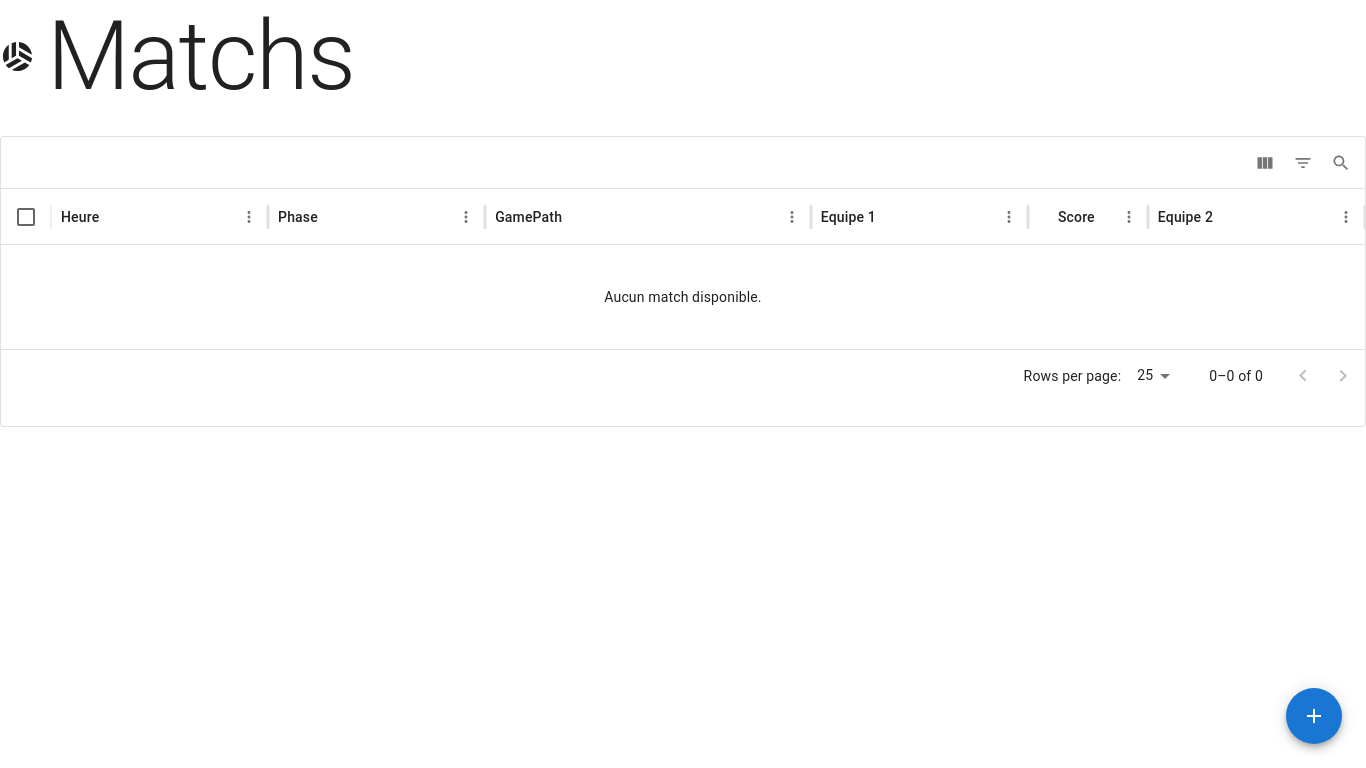
AdminGamesView › should choose and open the single game creation form
This screenshot has width=1366, height=768.
Click the button named "Ajouter des matchs". click: (1314, 716)
box: x1=1286 y1=688 x2=1342 y2=744
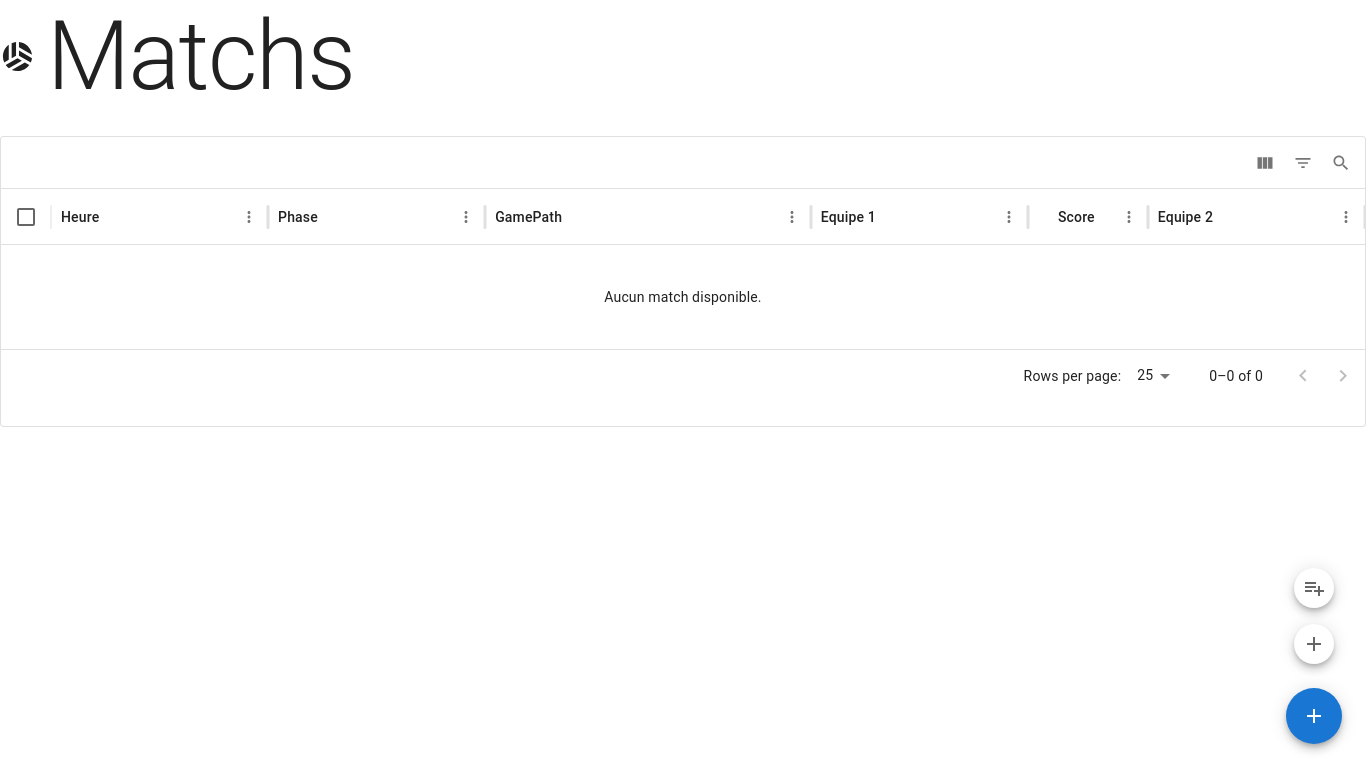
Click the menu item named "Creer un match". click: (1314, 644)
box: x1=1294 y1=624 x2=1334 y2=664
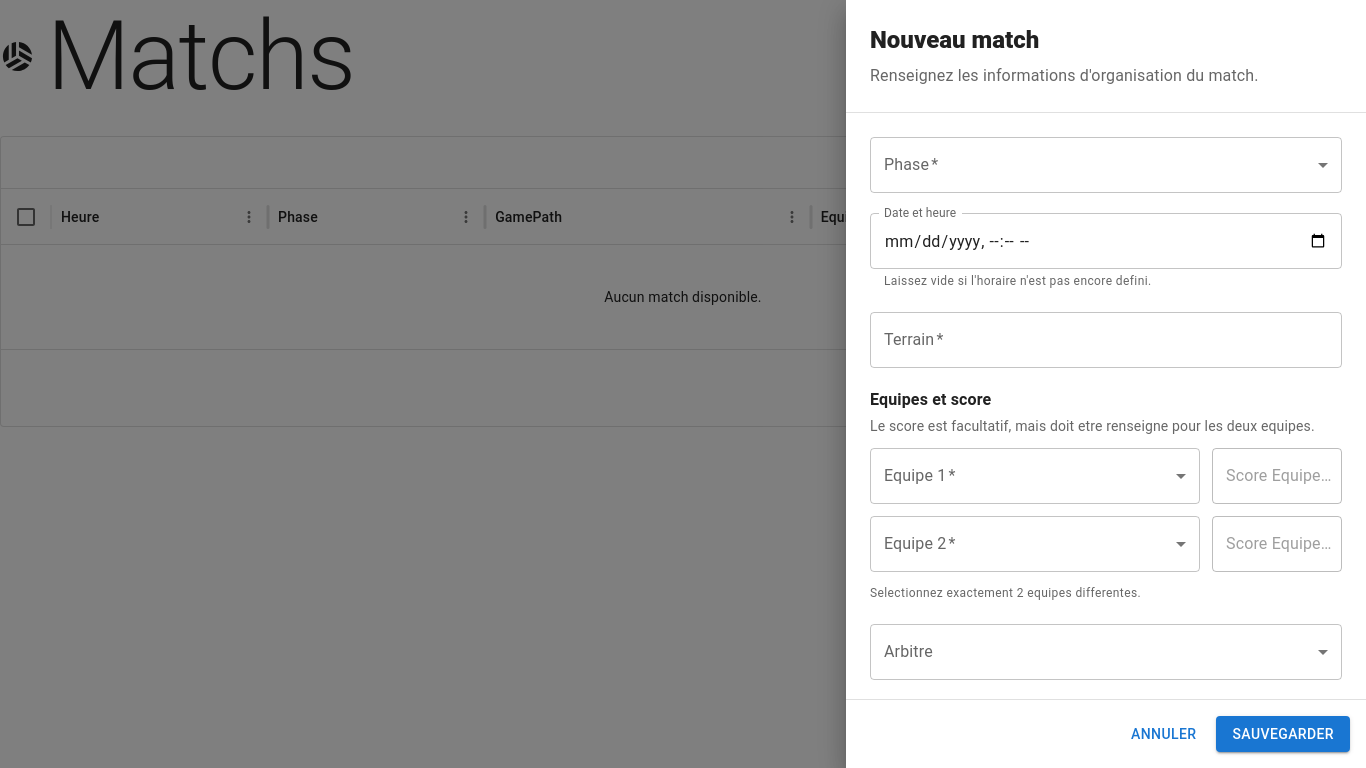
Check: the heading "Nouveau match" is shown, box x1=870 y1=26 x2=1039 y2=54
